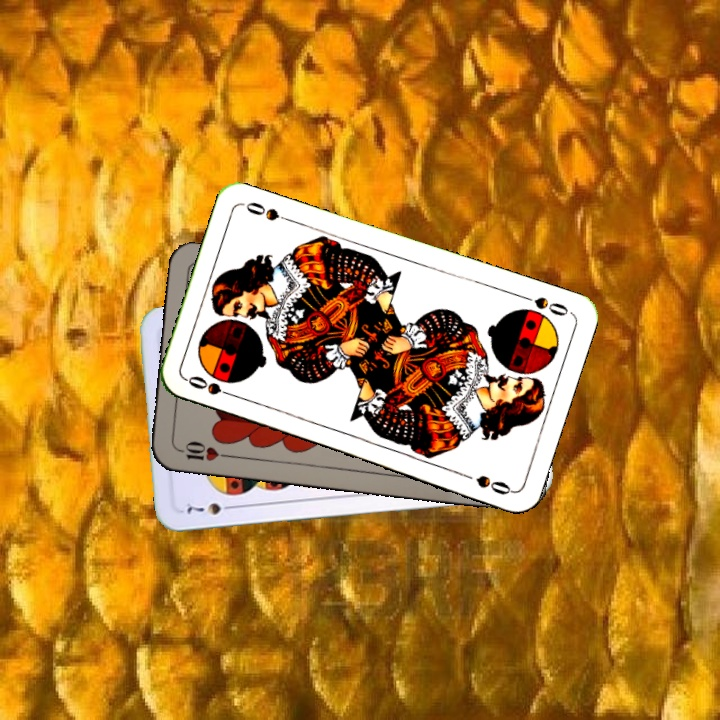H10: (173, 437, 232, 464)
S7: (182, 498, 239, 518)
SO: (183, 371, 240, 401), (516, 290, 573, 319)
